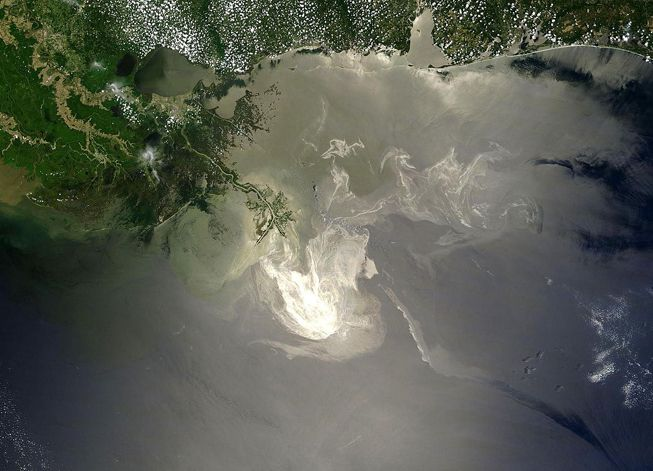anomaly: (248, 237, 417, 368)
